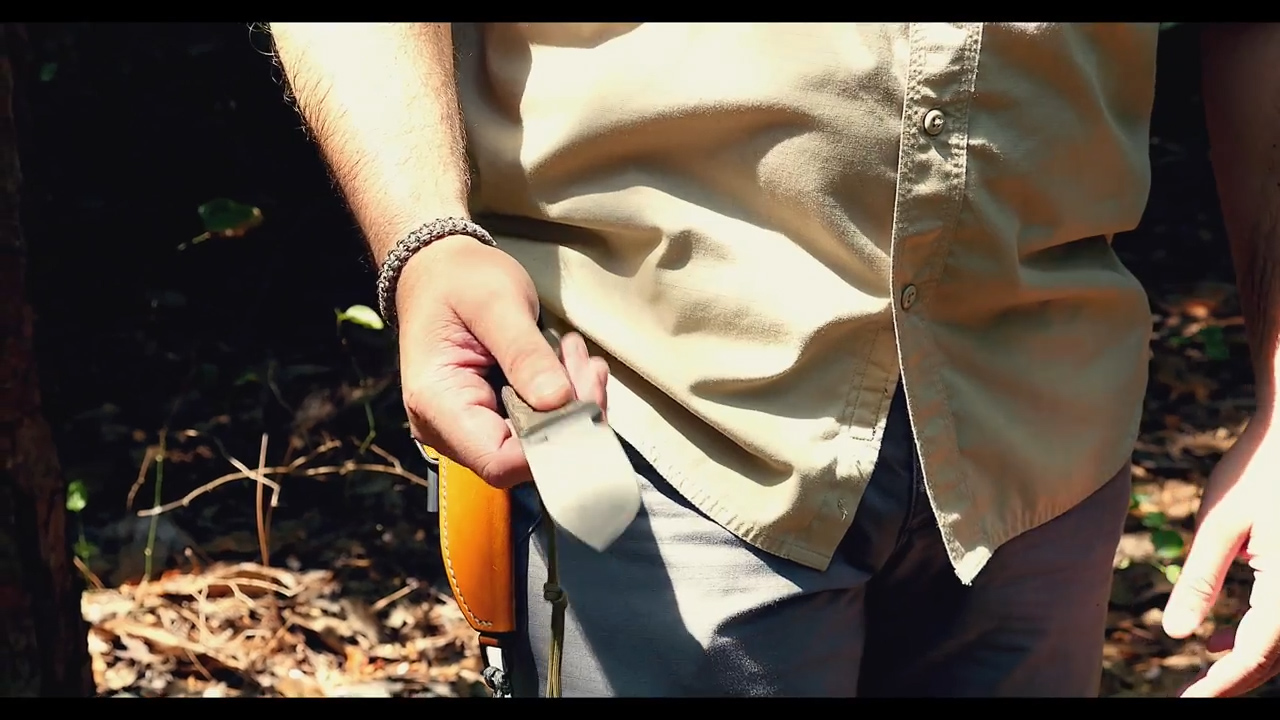knife: (389, 301, 654, 571)
